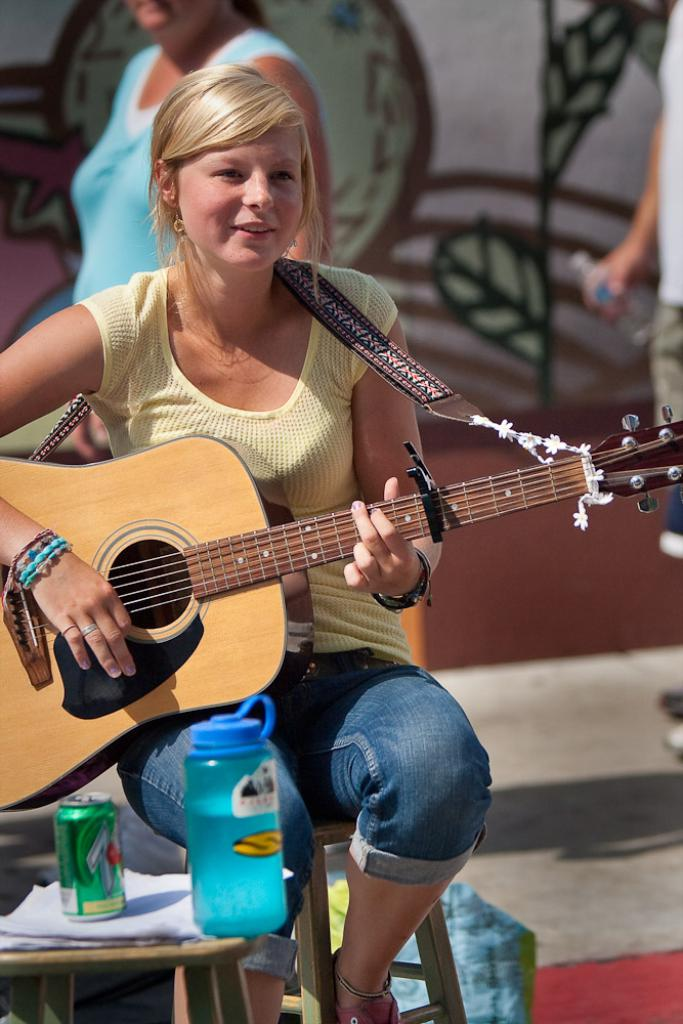Human-face: (179, 128, 302, 266), (126, 0, 218, 31)
